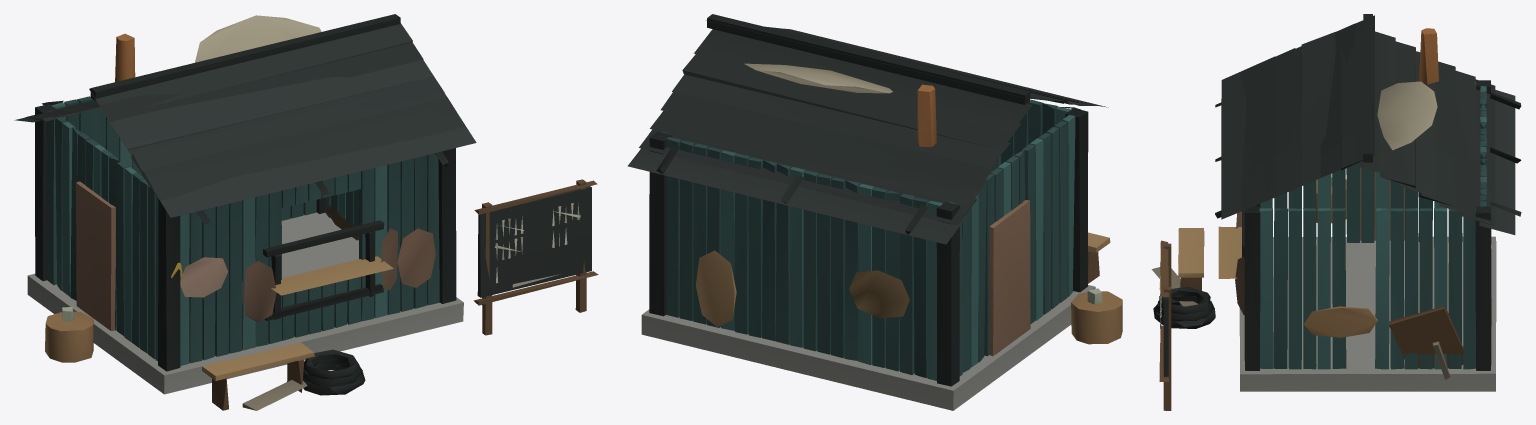
The model's file is billing_booth_b_lod2.glb.
3 renders of one model, left to right at view 1: azimuth 30°, elevation 25°; view 2: azimuth 150°, elevation 25°; view 3: azimuth 270°, elevation 25°, orthographic. The views are drawn at different scales.
Visible parts, largest first — view 1: Surface.001; view 2: Surface.001; view 3: Surface.001.
Part boxes in pixels (x1,y1,x2,y2): Surface.001: [14, 14, 598, 410]; Surface.001: [627, 14, 1122, 410]; Surface.001: [1151, 14, 1521, 410].
Size of the model in its own units: 7.35 by 4.1 by 5.45.
